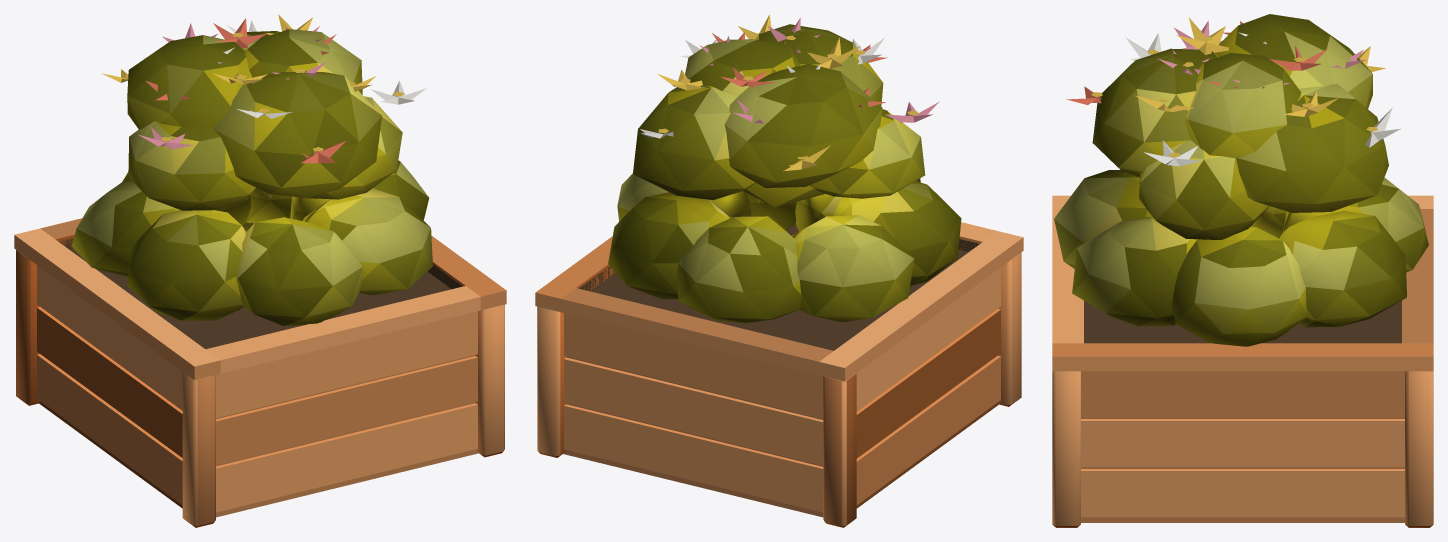
The model's file is planter_square.glb.
3 views of the same model, side by side, from view 1: azimuth 30°, elevation 25°; view 2: azimuth 150°, elevation 25°; view 3: azimuth 270°, elevation 25° (orthographic). The views are drawn at different scales.
Parts seen in each view (by area): view 1: body; view 2: body; view 3: body.
Part boxes in pixels (x1,y1,x2,y2): body: (14,14,506,527); body: (535,14,1023,527); body: (1052,14,1433,527).
Size of the model in its own units: 1.2 by 1.4 by 1.2.
